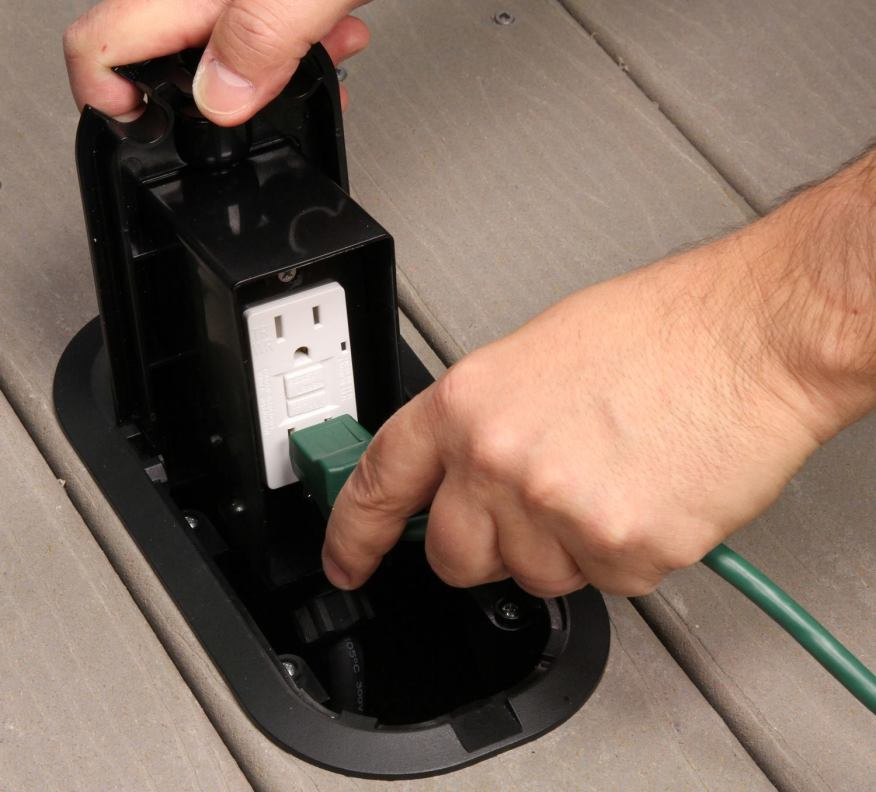outlet: (265, 297, 333, 366)
